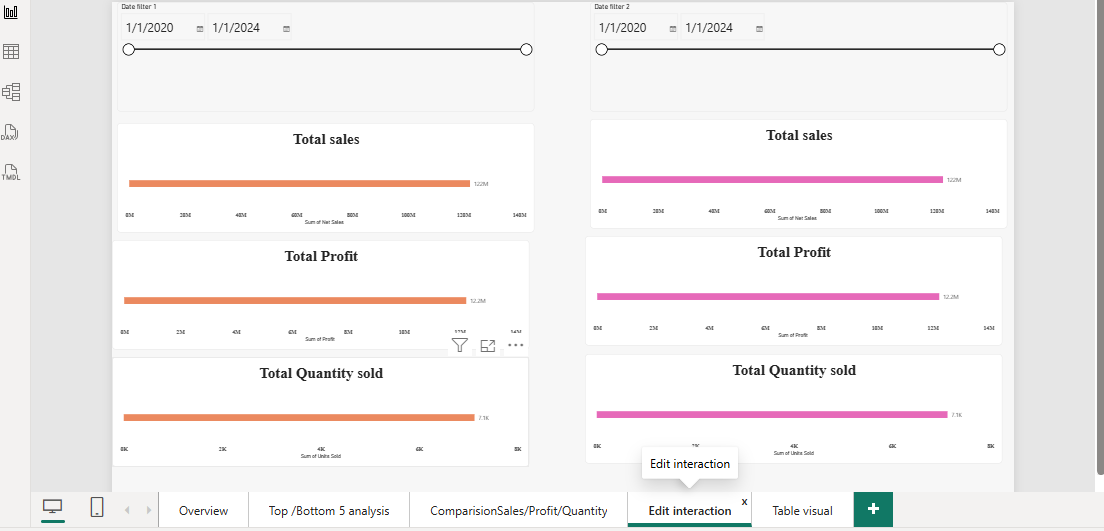

The page's visual inventory and layout, read from the dashboard file:
{"tool":"powerbi","page":{"name":"Edit interaction","canvas":[1920,1080],"ordinal":3},"visuals":[{"type":"slicer","fields":{"Values":["Fact Table.Date (dd/mm/yyyy)"]},"box":[10.8,0,887.8,233.3],"z":0},{"type":"slicer","fields":{"Values":["Fact Table.Date (dd/mm/yyyy)"]},"box":[1017.4,0,887.8,233.3],"z":1000},{"type":"barChart","title":"Total sales","fields":{"Y":["Sum(Fact Table.Net Sales)"]},"box":[11,256.5,888,233],"z":1001},{"type":"barChart","title":"Total Profit","fields":{"Y":["Sum(Fact Table.Profit)"]},"box":[0,505.4,888,233],"z":1002},{"type":"barChart","title":"Total  Quantity sold","fields":{"Y":["Sum(Fact Table.Units Sold)"]},"box":[0,756,888,233],"z":1003},{"type":"barChart","title":"Total sales","fields":{"Y":["Sum(Fact Table.Net Sales)"]},"box":[1016.8,249.2,888,233],"z":1004},{"type":"barChart","title":"Total Profit","fields":{"Y":["Sum(Fact Table.Profit)"]},"box":[1005.8,498.2,888,233],"z":1005},{"type":"barChart","title":"Total  Quantity sold","fields":{"Y":["Sum(Fact Table.Units Sold)"]},"box":[1005.8,748.7,888,233],"z":1006}]}

Visuals, with their boxes on the page's 1920x1080 design canvas (x1, y1, x2, y2). These are canvas units, not pixel positions in the 1104x531 screenshot, which may show the page scaled, cropped or inside an application window:
slicer - Fact Table.Date (dd/mm/yyyy): <region>11, 0, 899, 233</region>
slicer - Fact Table.Date (dd/mm/yyyy): <region>1017, 0, 1905, 233</region>
"Total sales" barChart: <region>11, 256, 899, 490</region>
"Total Profit" barChart: <region>0, 505, 888, 738</region>
"Total  Quantity sold" barChart: <region>0, 756, 888, 989</region>
"Total sales" barChart: <region>1017, 249, 1905, 482</region>
"Total Profit" barChart: <region>1006, 498, 1894, 731</region>
"Total  Quantity sold" barChart: <region>1006, 749, 1894, 982</region>
